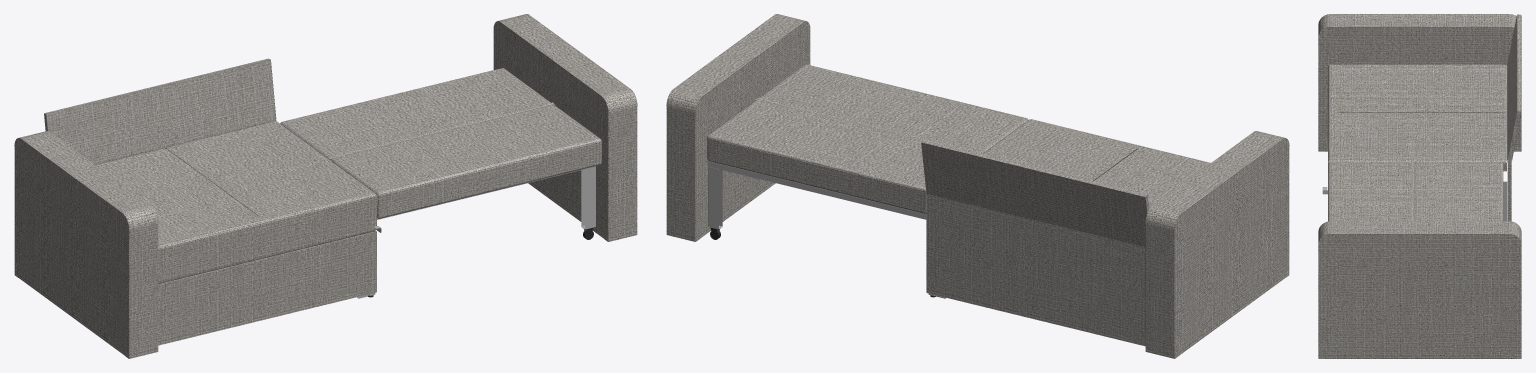
3 views of the same model, side by side, from view 1: azimuth 30°, elevation 25°; view 2: azimuth 150°, elevation 25°; view 3: azimuth 270°, elevation 25° (orthographic). The views are drawn at different scales.
Visible parts, largest first — view 1: 3 (×2), 56, 75, 2, 48; view 2: 3 (×2), 48, 2; view 3: 3 (×2), 75, 48, 54, 2.
Boxes of the visible parts, x1=… form: 3 (×2): x1=14, y1=14, x2=637, y2=358; 56: x1=158, y1=232, x2=376, y2=345; 75: x1=46, y1=60, x2=276, y2=215; 2: x1=258, y1=166, x2=595, y2=298; 48: x1=44, y1=58, x2=270, y2=129; 3 (×2): x1=666, y1=14, x2=1289, y2=358; 48: x1=921, y1=140, x2=1146, y2=346; 2: x1=707, y1=161, x2=945, y2=298; 3 (×2): x1=1318, y1=14, x2=1521, y2=358; 75: x1=1507, y1=15, x2=1517, y2=159; 48: x1=1511, y1=14, x2=1521, y2=159; 54: x1=1507, y1=111, x2=1520, y2=221; 2: x1=1322, y1=112, x2=1507, y2=221.
Size of the model in its own units: 2.26 by 0.6845 by 0.884.
Materials: 3 (1 with a texture image).
